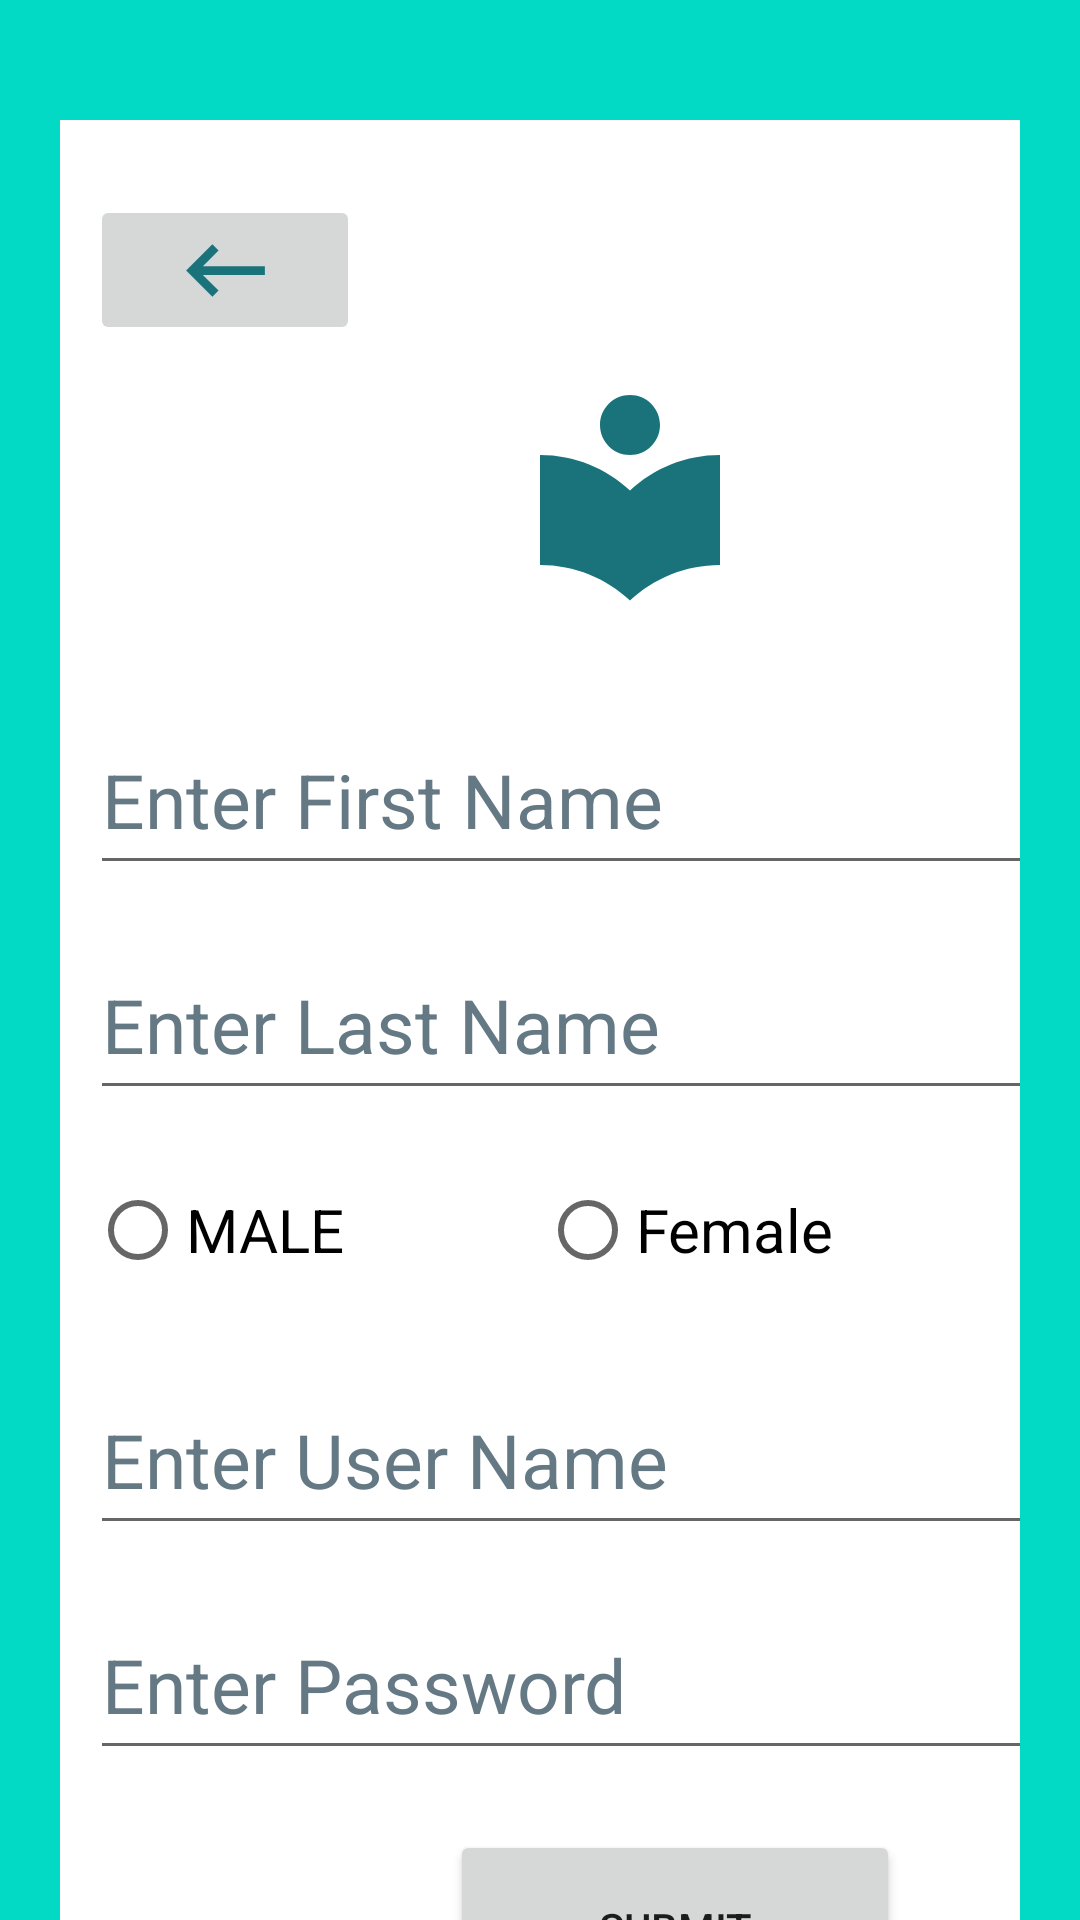

Icon click points for this 1080px x 1920px phone screenshot, format (x=x, y=y):
keyboard backspace: (x=225, y=270)
local library: (x=630, y=498)
